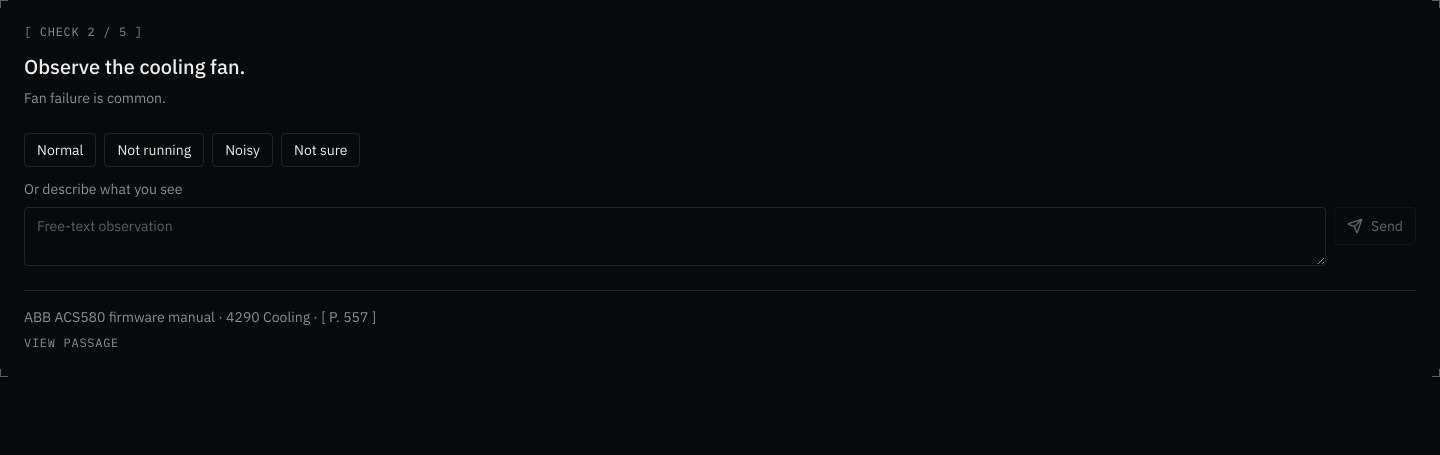
Test: CurrentCheck › shows check progress, citation with printed page, and chips
Expected: the text "[ CHECK 2 / 5 ]" is shown, left=24, top=24, right=143, bottom=39
Expected: the heading "Observe the cooling fan." is shown, left=24, top=53, right=245, bottom=80
Click the button "View passage". click: (72, 344)
box: left=24, top=335, right=119, bottom=352
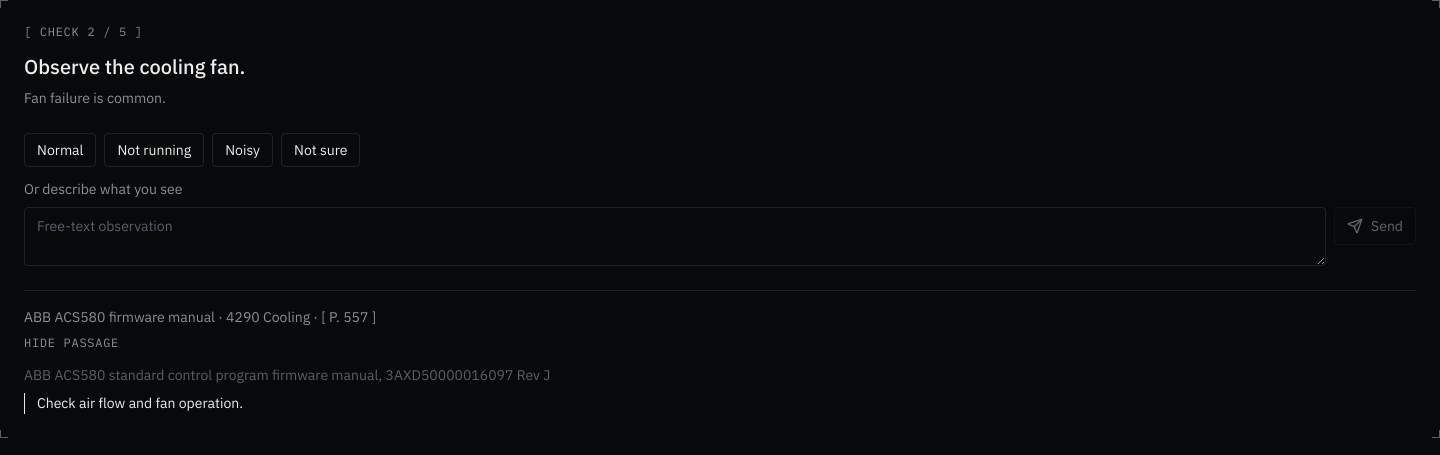
Expected: the text "3AXD50000016097 Rev J" is shown, left=24, top=366, right=550, bottom=384
Expected: the text "Check air flow and fan operation." is shown, left=24, top=393, right=1416, bottom=414
